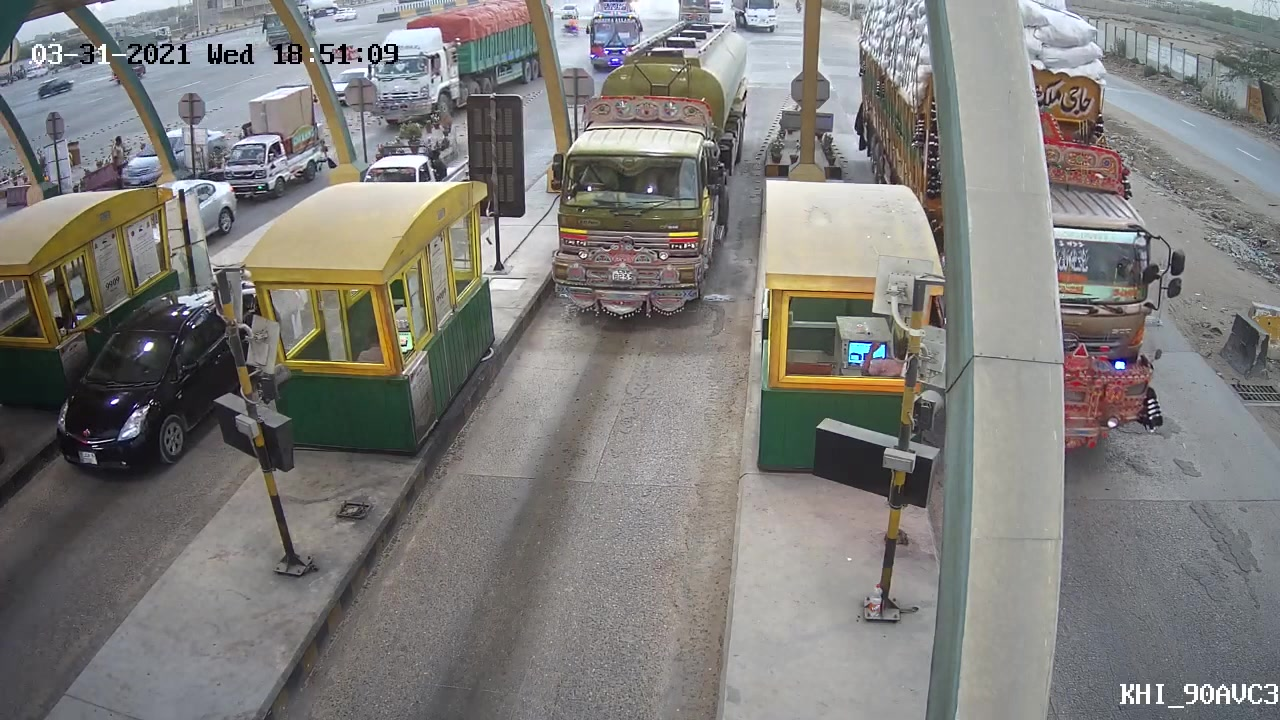F6: (536, 14, 764, 328)
